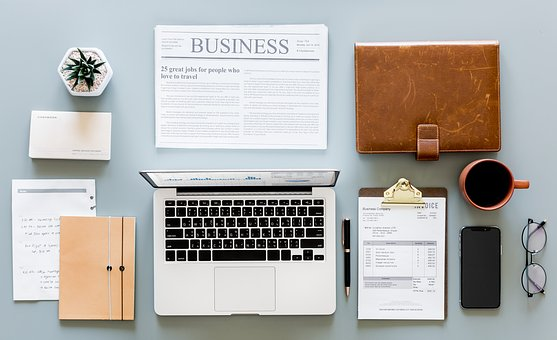mobile: (459, 219, 504, 317)
